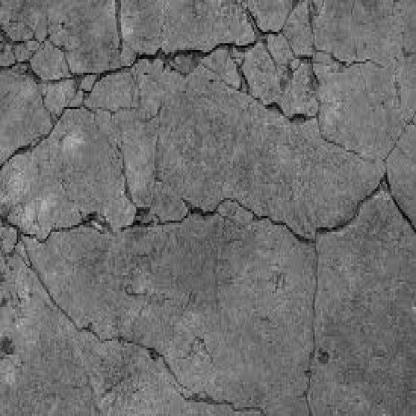SurfaceCrack: (0, 0, 383, 164), (12, 239, 267, 416), (0, 191, 366, 254), (304, 238, 326, 414)
